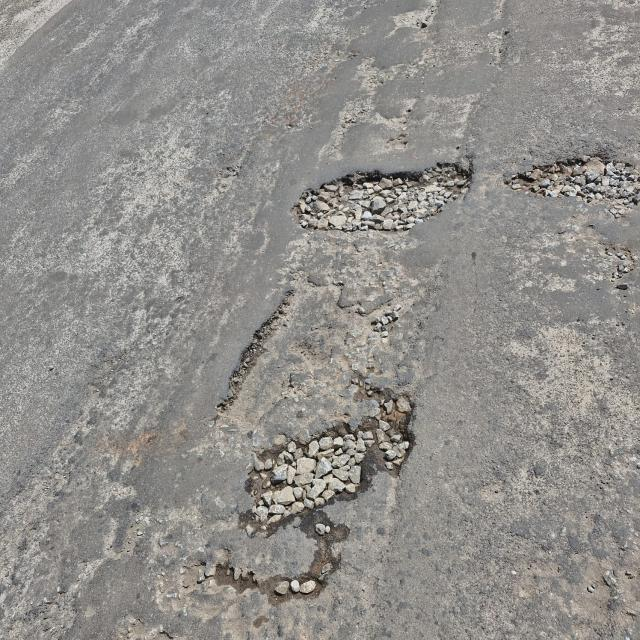pothole: (246, 419, 422, 515), (287, 152, 484, 236), (211, 267, 292, 414), (499, 136, 640, 218), (308, 270, 424, 333), (210, 558, 333, 602), (237, 506, 352, 544), (348, 364, 422, 418), (585, 238, 640, 289), (309, 512, 346, 579)
